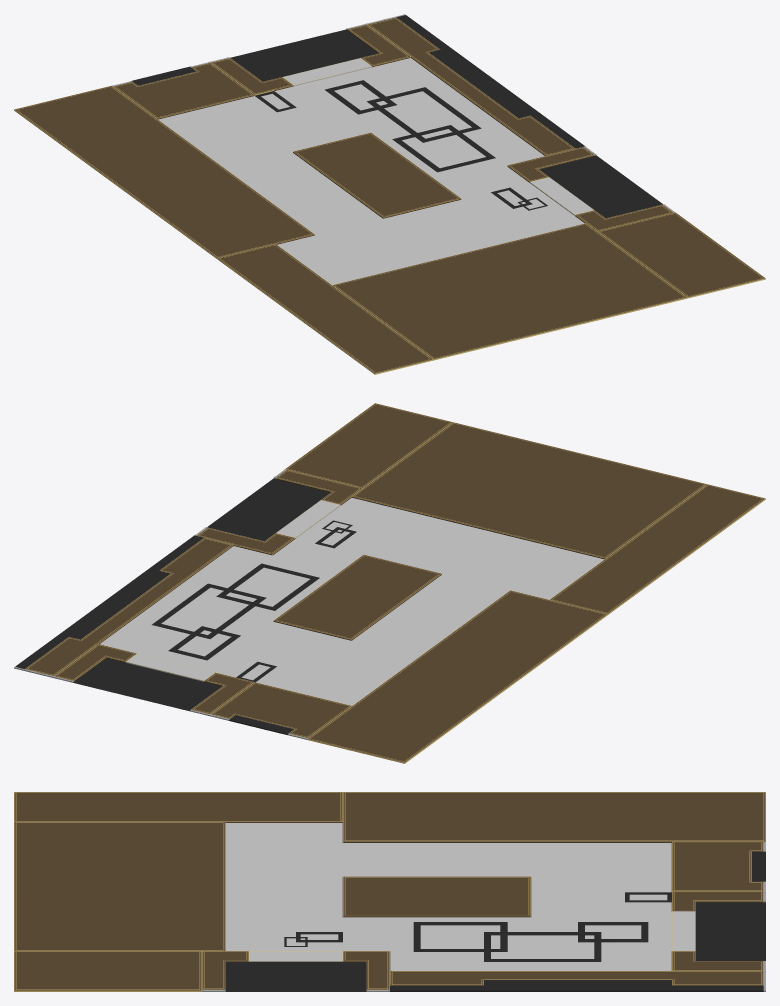
File: A_left_zone_floor_ (1).fbx
3 renders of one model, top to bottom at view 1: azimuth 30°, elevation 25°; view 2: azimuth 150°, elevation 25°; view 3: azimuth 270°, elevation 25°, orthographic. The views are drawn at different scales.
Visible parts, largest first — view 1: A_left_zone_wood01_, A_left_zone_white_marble_, A_left_zone_floor_black_marble_, A_left_zone_wood02_, A_left_zone_laiton_, A_left_zone_floor_black_3_; view 2: A_left_zone_wood01_, A_left_zone_white_marble_, A_left_zone_floor_black_marble_, A_left_zone_wood02_, A_left_zone_laiton_, A_left_zone_floor_black_3_; view 3: A_left_zone_wood01_, A_left_zone_white_marble_, A_left_zone_floor_black_marble_, A_left_zone_wood02_, A_left_zone_laiton_, A_left_zone_floor_black_3_.
Boxes of the visible parts, x1,y1,x2,y2 form: A_left_zone_wood01_: (17,18,762,372); A_left_zone_white_marble_: (158,58,593,284); A_left_zone_floor_black_marble_: (230,29,662,218); A_left_zone_wood02_: (14,17,765,373); A_left_zone_laiton_: (14,17,765,374); A_left_zone_floor_black_3_: (132,15,584,148); A_left_zone_wood01_: (28,404,762,761); A_left_zone_white_marble_: (100,498,604,705); A_left_zone_floor_black_marble_: (73,478,356,711); A_left_zone_wood02_: (25,403,765,762); A_left_zone_laiton_: (25,403,765,763); A_left_zone_floor_black_3_: (15,535,293,734); A_left_zone_wood01_: (16,793,763,989); A_left_zone_white_marble_: (225,823,695,970); A_left_zone_floor_black_marble_: (225,892,765,991); A_left_zone_wood02_: (14,792,765,990); A_left_zone_laiton_: (14,792,765,991); A_left_zone_floor_black_3_: (390,851,765,991).
Size of the model in its own units: 2000 by 5 by 3200.
